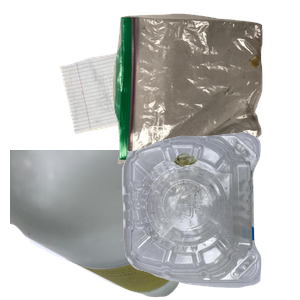glass: (10, 150, 190, 300)
paper: (56, 40, 229, 166)
plastic: (119, 130, 300, 300)
trash: (110, 11, 300, 167)
